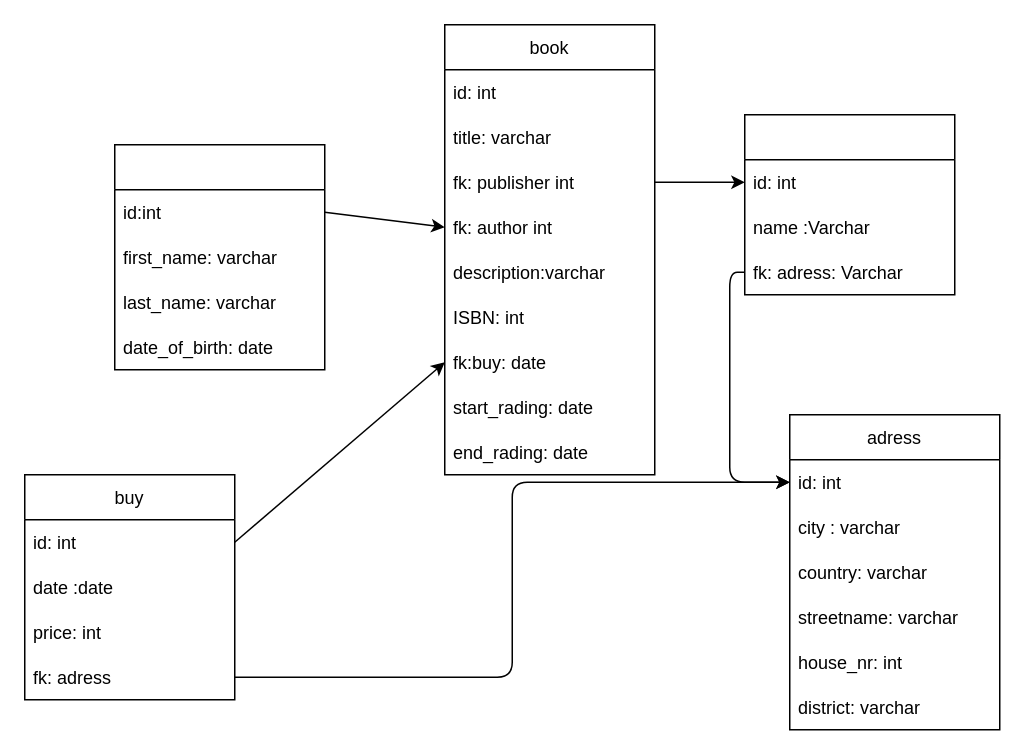
Image size: 1025x755. Some labels were removed from this diagram. Each missing label, with the box of its shape:
author: (113, 143, 325, 370)
publisher: (743, 113, 955, 295)
